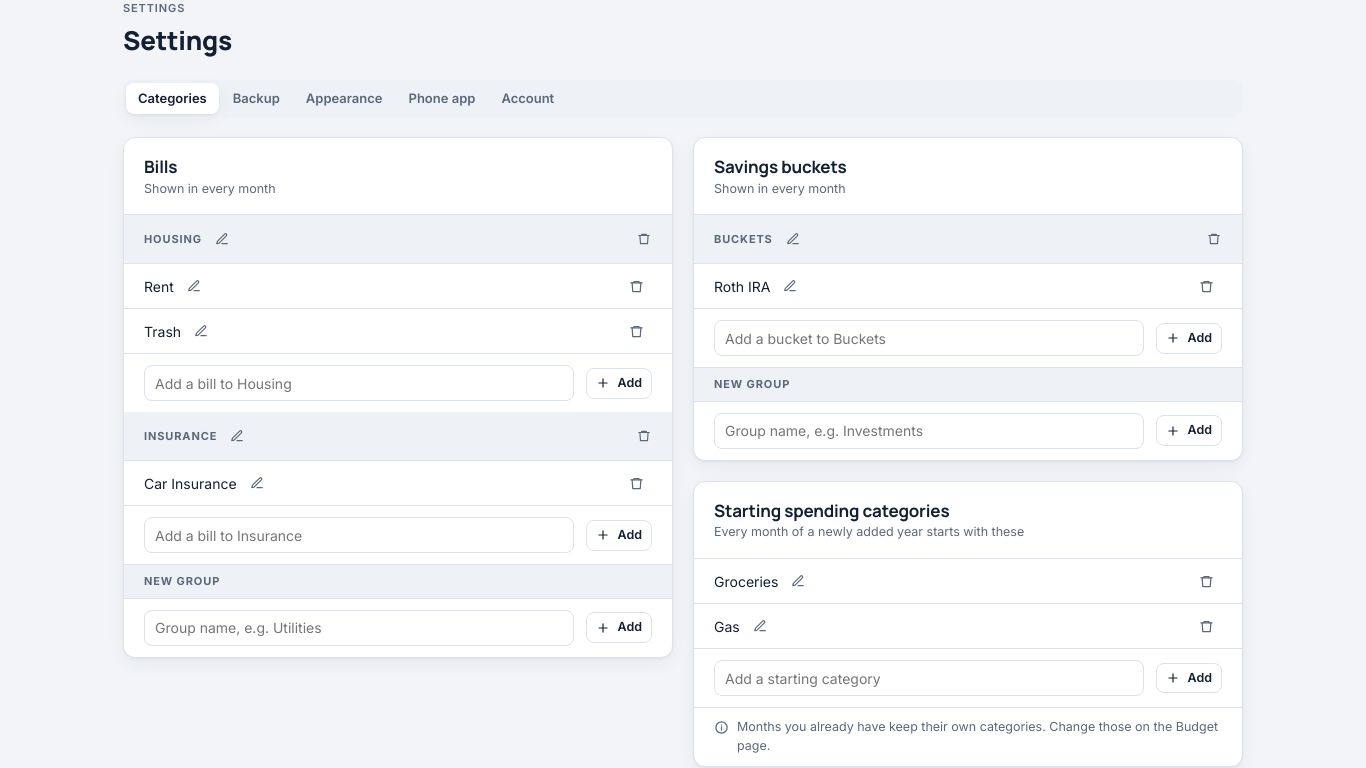
Test case: settings › categories › hides a bill instead of deleting it
Later steps or results of the test are not shown.
What coordinates should you click on to do the following:
click the button named "Remove Rent"
I would click on:
 (636, 286)
Its box is [620, 270, 652, 302].
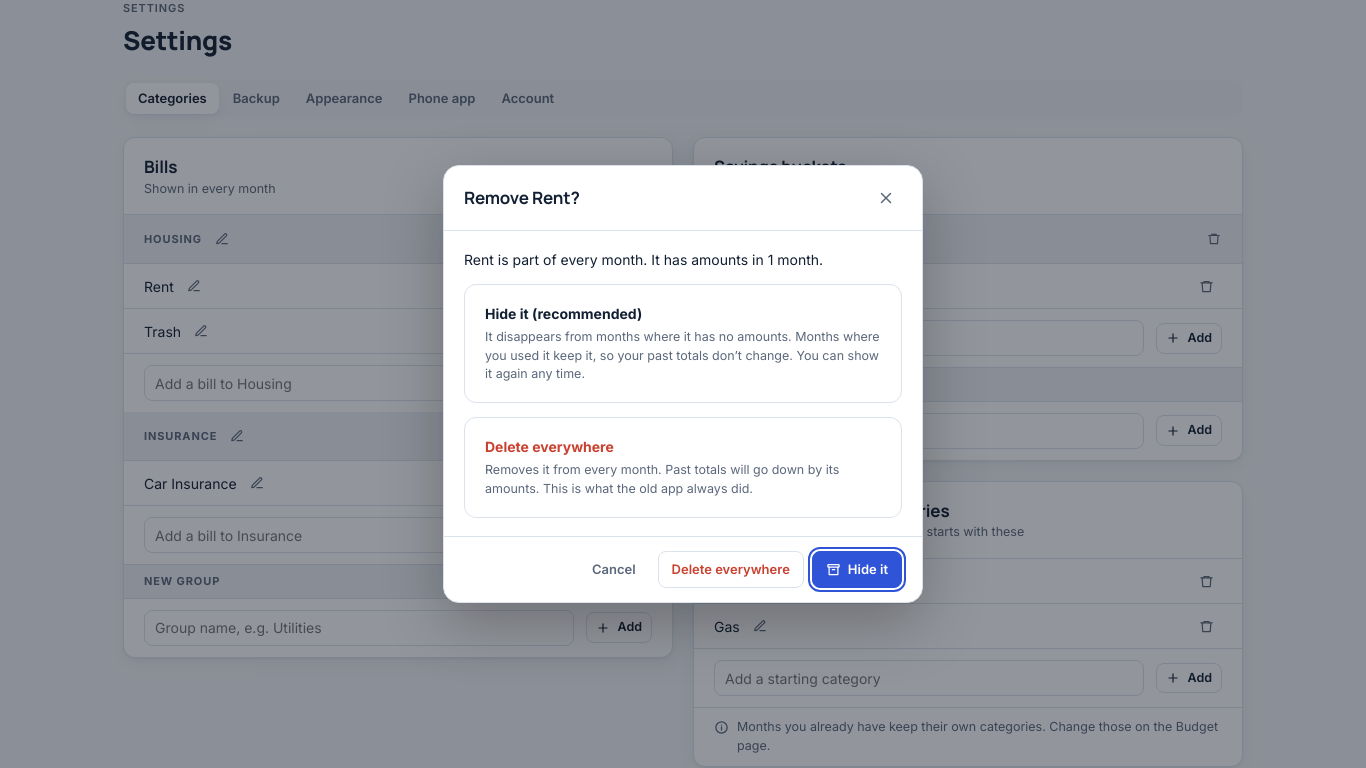
Check: the dialog shows "It has amounts in 1 month", box [647, 251, 823, 268]
